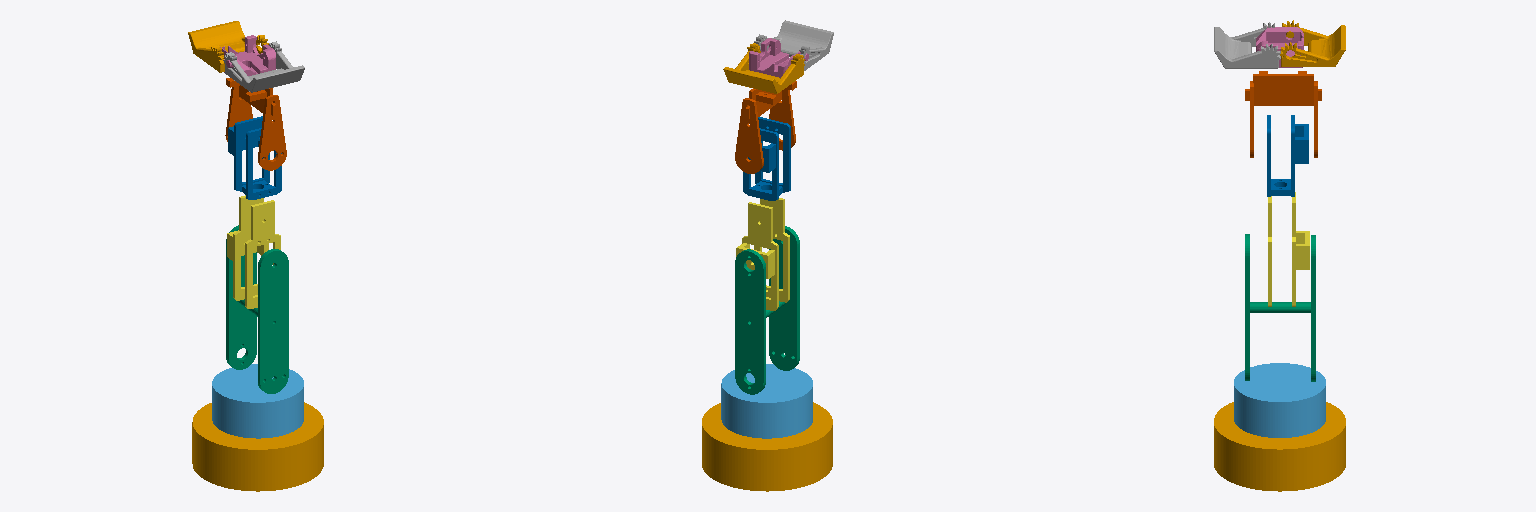
robot.urdf — arm_mesh:
<?xml version = "1.0" ?>
<robot name="arm_mesh">
	<link name = "base">
			<visual>
				<origin rpy="0 0 0" xyz = "0 0 0"/>
				<geometry>
               		<mesh filename="package://robotic_arm_pkg/meshes/base.stl" scale = "0.001 0.001 0.001"/>
            	</geometry>
        	</visual>

            <collision>
                <origin rpy="0 0 0" xyz = "0 0 0"/>
                <geometry>
                    <cylinder radius="0.05" length="0.035"/>
                </geometry>
            </collision>

    
    </link>


    <joint name = "base_link1" type = "revolute">
			<axis xyz= "0 0 1"/>
			<limit effort="1000.0" lower="-1.57" upper="1.57" velocity="0.5" />
        	<origin rpy="0 0 0" xyz="0 0 0.035"/>
        	<parent link="base"/>
        	<child link="link1"/>
    </joint>

     

    <link name = "link1">
			<visual>
				<origin rpy="0 0 0" xyz = "0 0 0"/>
				<geometry>
               		<mesh filename="package://robotic_arm_pkg/meshes/link1.stl" scale = "0.001 0.001 0.001"/>
            	</geometry>
        	</visual>

            <collision>
                <origin rpy="0 0 0" xyz = "0 0 0.015"/>
                <geometry>
                    <cylinder radius="0.035" length="0.03"/>
                </geometry>
            </collision>

        
    </link>

    <joint name = "link1_link2" type = "revolute">
			<axis xyz= "0 1 0"/>
			<limit effort="1000.0" lower="-1.57" upper="1.57" velocity="0.5" />
        	<origin rpy="0 0 0" xyz="0 0 0.05"/>
        	<parent link="link1"/>
        	<child link="link2"/>
        </joint>

    

    <link name = "link2">
			<visual>
				<origin rpy="0 0 0" xyz = "0 0 0"/>
				<geometry>
               		<mesh filename="package://robotic_arm_pkg/meshes/link2.stl" scale = "0.001 0.001 0.001"/>
            	</geometry>
        	</visual>
            <collision>
                <origin rpy="0 0 0" xyz = "0 0 0.05"/>
                <geometry>
                    <box size ="0.025 0.054 0.12"/>
                </geometry>
            </collision>

           
    </link>


    <joint name = "link2_link3" type = "revolute">
			<axis xyz= "0 1 0"/>
			<limit effort="1000.0" lower="-1.57" upper="1.57" velocity="0.5" />
        	<origin rpy="0 0 0" xyz="0 0 0.095"/>
        	<parent link="link2"/>
        	<child link="link3bot"/>
        </joint>

    

<link name = "link3bot">
			<visual>
				<origin rpy="0 0 0" xyz = "0 0 0"/>
				<geometry>
               		<mesh filename="package://robotic_arm_pkg/meshes/link3bot.stl" scale = "0.001 0.001 0.001"/>
            	</geometry>
        	</visual>

            <collision>
                <origin rpy="0 0 0" xyz = "0 0 0.045"/>
                <geometry>
                    <box size="0.03 0.04 0.14"/>
                </geometry>
            </collision>

        
    </link>

    <joint name = "link3bot_link3top" type = "revolute">
			<axis xyz= "0 0 1"/>
			<limit effort="1000.0" lower="-1.57" upper="1.57" velocity="0.5" />
        	<origin rpy="0 0 0" xyz="0 0 0.05"/>
        	<parent link="link3bot"/>
        	<child link="link3top"/>
        </joint>

<link name = "link3top">
			<visual>
				<origin rpy="0 0 0" xyz = "0 0 0"/>
				<geometry>
               		<mesh filename="package://robotic_arm_pkg/meshes/link3top.stl" scale = "0.001 0.001 0.001"/>
            	</geometry>
        	</visual>

            <collision>
                <origin rpy="0 0 0" xyz = "0 0 0.045"/>
                <geometry>
                    <box size="0.03 0.04 0.14"/>
                </geometry>
            </collision>

        
    </link>

    <joint name = "link3top_link4" type = "revolute">
			<axis xyz= "0 1 0"/>
			<limit effort="1000.0" lower="-1.57" upper="1.57" velocity="0.5" />
        	<origin rpy="0 0 0" xyz="0 0 0.04"/>
        	<parent link="link3top"/>
        	<child link="link4"/>
        </joint>


    <link name = "link4">
			<visual>
				<origin rpy="0 0 0" xyz = "0 0 0"/>
				<geometry>
               		<mesh filename="package://robotic_arm_pkg/meshes/link4.stl" scale = "0.001 0.001 0.001"/>
            	</geometry>
        	</visual>

            <collision>
                <origin rpy="0 -1.57 1.57" xyz = "0.017 -0.0135 0.033"/>
                <geometry>
                    <mesh filename="package://robotic_arm_pkg/meshes/link4.stl" scale = "0.001 0.001 0.001"/>
                </geometry>
            </collision>

           
    </link>

    <joint name = "link4_gripper_base" type = "revolute">
			<axis xyz= "0 0 1"/>
			<limit effort="1000.0" lower="-1.57" upper="1.57" velocity="0.5" />
        	<origin rpy="0 0 0" xyz="-0.01 0 0.06"/>
        	<parent link="link4"/>
        	<child link="gripper_base"/>
        </joint>

    

    <link name = "gripper_base">
			<visual>
				<origin rpy="0 0 0" xyz = "0 0 0"/>
				<geometry>
               		<mesh filename="package://robotic_arm_pkg/meshes/gripper_base.stl" scale = "0.001 0.001 0.001"/>
            	</geometry>
        	</visual>

            <collision>
                <origin rpy="0 0 0" xyz = "0 0 0"/>
                <geometry>
                    <mesh filename="package://robotic_arm_pkg/meshes/gripper_base.stl" scale = "0.001 0.001 0.001"/>
                </geometry>
            </collision>

            
    </link>

 <joint name = "gripper_base_claw_L" type = "revolute">
			<axis xyz= "1 0 0"/>
			<limit effort="1000.0" lower="-1.57" upper="1.57" velocity="0.5" />
        	<origin rpy="0 0 0" xyz="0 -0.008 0.018"/>
        	<parent link="gripper_base"/>
        	<child link="claw_L"/>
        </joint>

    <link name = "claw_L">
			<visual>
				<origin rpy="0 0 0" xyz = "0 0 0"/>
				<geometry>
               		<mesh filename="package://robotic_arm_pkg/meshes/gripper_claw_L.stl" scale = "0.001 0.001 0.001"/>
            	</geometry>
        	</visual>
            <collision>
                <origin rpy="-1.57 0 0" xyz = "-0.150 -0.01 0.125"/>
                <geometry>
                    <mesh filename="package://robotic_arm_pkg/meshes/gripper_claw_L.stl" scale = "0.001 0.001 0.001"/>
                </geometry>
            </collision>

            <inertial>
                <mass value = "0.007"/>
                <origin rpy="0 0 0" xyz = "0 0 0 "/>
                <inertia ixx="0.037" ixy="0.000274" ixz="-0.000001395" iyy="0.0245" iyz="0.000007207" izz="0.01526"/>
            </inertial>
    </link>

    <joint name = "gripper_base_claw_R" type = "revolute">
			<axis xyz= "-1 0 0"/>
			<limit effort="1000.0" lower="-1.57" upper="1.57" velocity="0.5" />
        	<origin rpy="0 0 0" xyz="0 0.008 0.018"/>
        	<parent link="gripper_base"/>
        	<child link="claw_R"/>
        </joint>

    <link name = "claw_R">
			<visual>
				<origin rpy="0 0 0" xyz = "0 0 0"/>
				<geometry>
               		<mesh filename="package://robotic_arm_pkg/meshes/gripper_claw_R.stl" scale = "0.001 0.001 0.001"/>
            	</geometry>
        	</visual>
            <collision>
                <origin rpy="-1.57 0 3.14" xyz = "0.147 0.01 0.123"/>
                <geometry>
                    <mesh filename="package://robotic_arm_pkg/meshes/gripper_claw_R.stl" scale = "0.001 0.001 0.001"/>
                </geometry>
            </collision>

            <inertial>
                <mass value = "0.007"/>
               <origin rpy="0 0 0" xyz = "0 0 0 "/>
                <inertia ixx="0.037" ixy="0.000274" ixz="-0.000001395" iyy="0.0245" iyz="0.000007207" izz="0.01526"/>
            </inertial>
    </link>


 <gazebo>
    <plugin name="gazebo_ros_control" filename="libgazebo_ros_control.so">
    <robotNamespace>/arm_mesh</robotNamespace>
    <robotSimType>gazebo_ros_control/DefaultRobotHWSim</robotSimType>
    <legacyModeNS>true</legacyModeNS>
    </plugin>
  </gazebo>


   

</robot>

--- Facts derived from the render (not from the file) ---
The picture shows the robot from 3 angles, left to right: view 1: azimuth 30°, elevation 25°; view 2: azimuth 150°, elevation 25°; view 3: azimuth 270°, elevation 25°; orthographic projection.
Robot: arm_mesh — 9 links, 8 joints (8 revolute); root link base; default pose: every joint at zero.
Links seen in each view (by area): view 1: base, link2, link1, link3bot, link4, link3top, claw_R, claw_L, gripper_base; view 2: base, link2, link1, link3bot, link4, link3top, claw_L, claw_R, gripper_base; view 3: base, link1, link4, link2, claw_L, claw_R, link3top, link3bot, gripper_base.
Boxes of the visible links, bbox=[...] form: base: bbox=[192, 402, 323, 491]; link2: bbox=[226, 225, 288, 393]; link1: bbox=[212, 364, 303, 438]; link3bot: bbox=[227, 195, 280, 308]; link4: bbox=[225, 78, 286, 170]; link3top: bbox=[228, 116, 281, 199]; claw_R: bbox=[188, 21, 268, 72]; claw_L: bbox=[223, 41, 304, 92]; gripper_base: bbox=[220, 35, 275, 75]; base: bbox=[702, 402, 832, 491]; link2: bbox=[735, 226, 799, 394]; link1: bbox=[721, 364, 812, 438]; link3bot: bbox=[736, 198, 789, 310]; link4: bbox=[735, 81, 796, 173]; link3top: bbox=[743, 117, 790, 200]; claw_L: bbox=[754, 20, 833, 70]; claw_R: bbox=[723, 43, 804, 93]; gripper_base: bbox=[749, 38, 808, 77]; base: bbox=[1214, 402, 1345, 491]; link1: bbox=[1234, 363, 1325, 437]; link4: bbox=[1245, 71, 1321, 157]; link2: bbox=[1245, 234, 1315, 381]; claw_L: bbox=[1214, 22, 1280, 68]; claw_R: bbox=[1280, 20, 1345, 66]; link3top: bbox=[1267, 115, 1308, 196]; link3bot: bbox=[1268, 192, 1309, 306]; gripper_base: bbox=[1256, 27, 1303, 67].
Size in the robot's own frame: 0.1 by 0.1 by 0.3542 metres.
Meshes: 9 distinct files referenced, 9 mesh visuals loaded (9 binary STL).